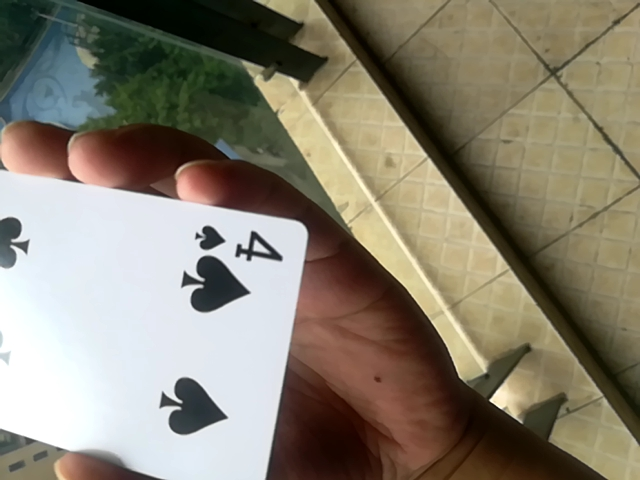ht 4: (0, 145, 309, 480)
